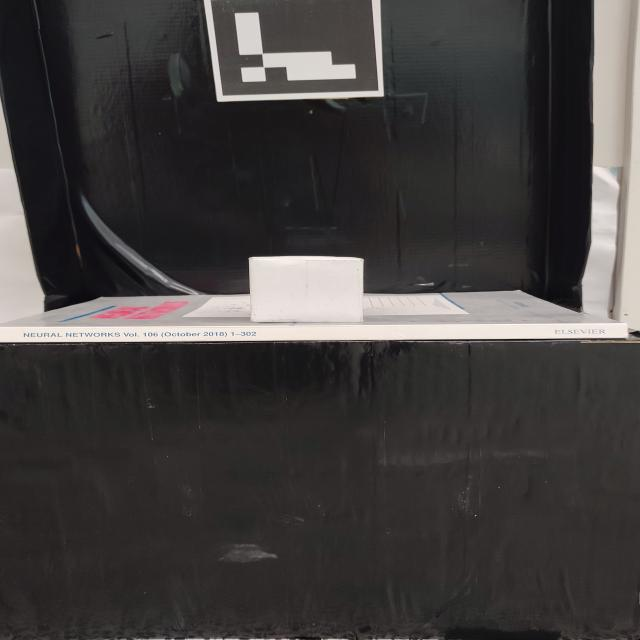bale: (244, 254, 368, 325)
